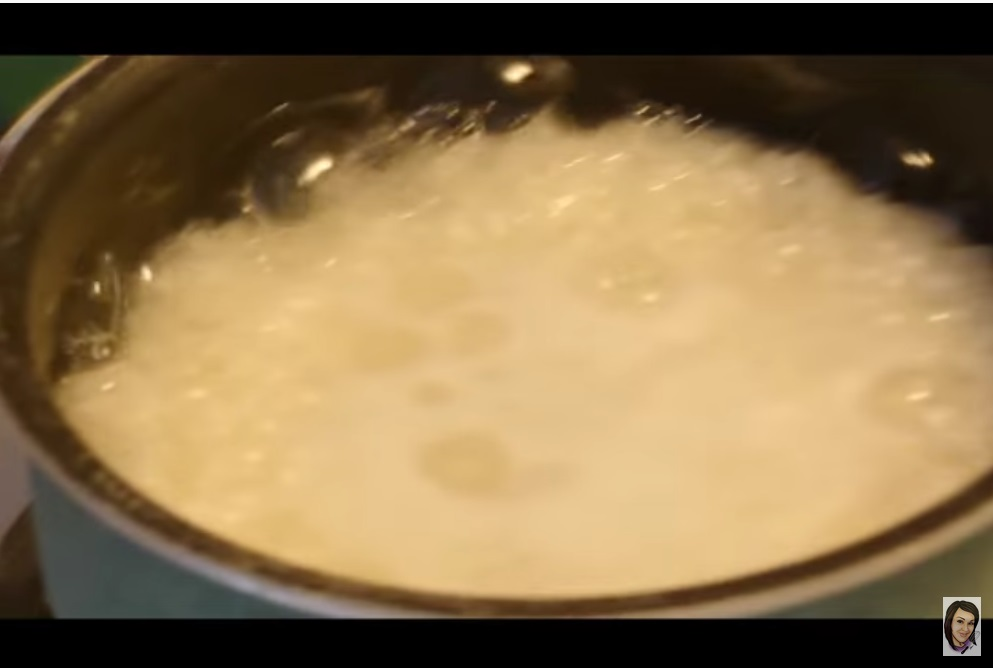Steaming: (66, 100, 944, 578)
